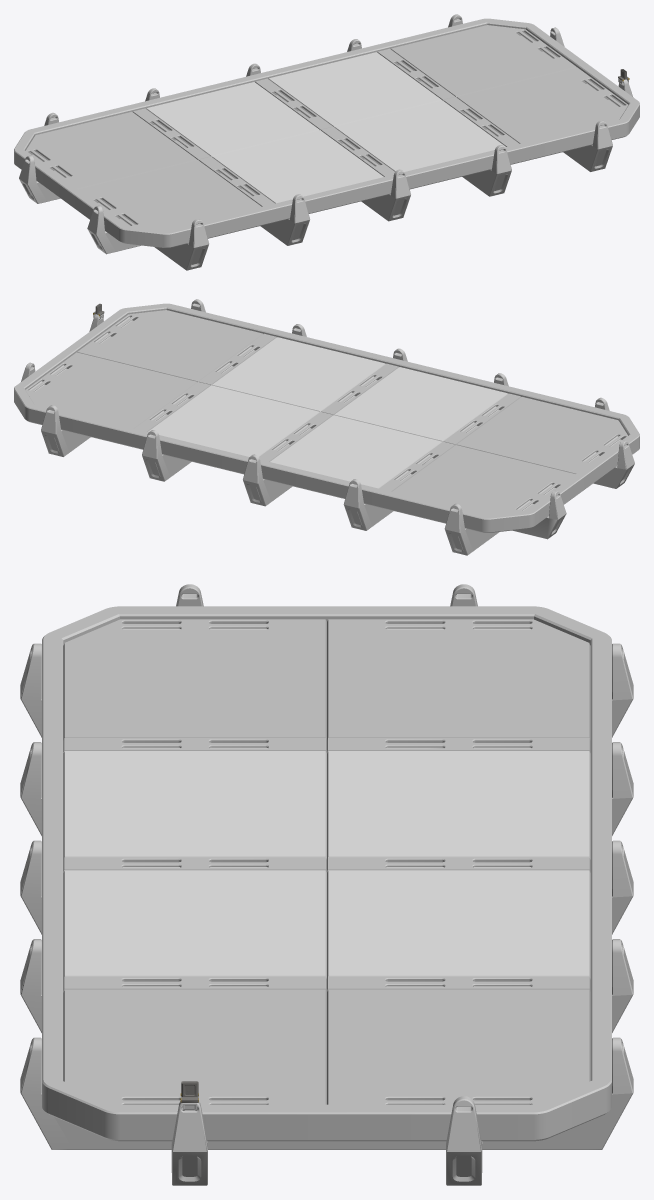
Rendered from KB3D_MTM_Asset_M.fbx.
3 renders of one model, top to bottom at view 1: azimuth 30°, elevation 25°; view 2: azimuth 150°, elevation 25°; view 3: azimuth 270°, elevation 25°, orthographic. The views are drawn at different scales.
Visible parts, largest first — view 1: KB3D_MTM_Asset_M_Main; view 2: KB3D_MTM_Asset_M_Main; view 3: KB3D_MTM_Asset_M_Main.
Part boxes in pixels (<box>): KB3D_MTM_Asset_M_Main: <box>14,14,639,270</box>; KB3D_MTM_Asset_M_Main: <box>14,299,639,555</box>; KB3D_MTM_Asset_M_Main: <box>20,584,633,1185</box>.
Bounding box in the file's own units: 1313 × 139 × 646.
